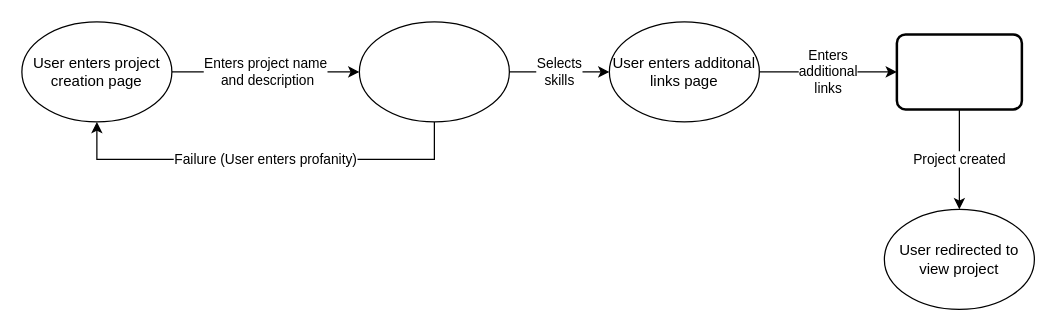
The diagram is 1056 pixels wide and 331 high, and some of its shapes have lost their labels. Each missing label, with the centre of its shape:
api/Create: pixel 958 71
User enters skill selection page: pixel 433 71
